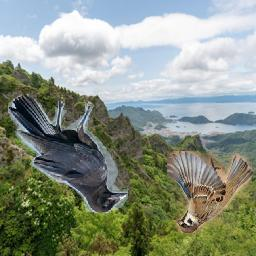Crow: (8, 95, 128, 214)
Sparrow: (168, 151, 253, 233)
